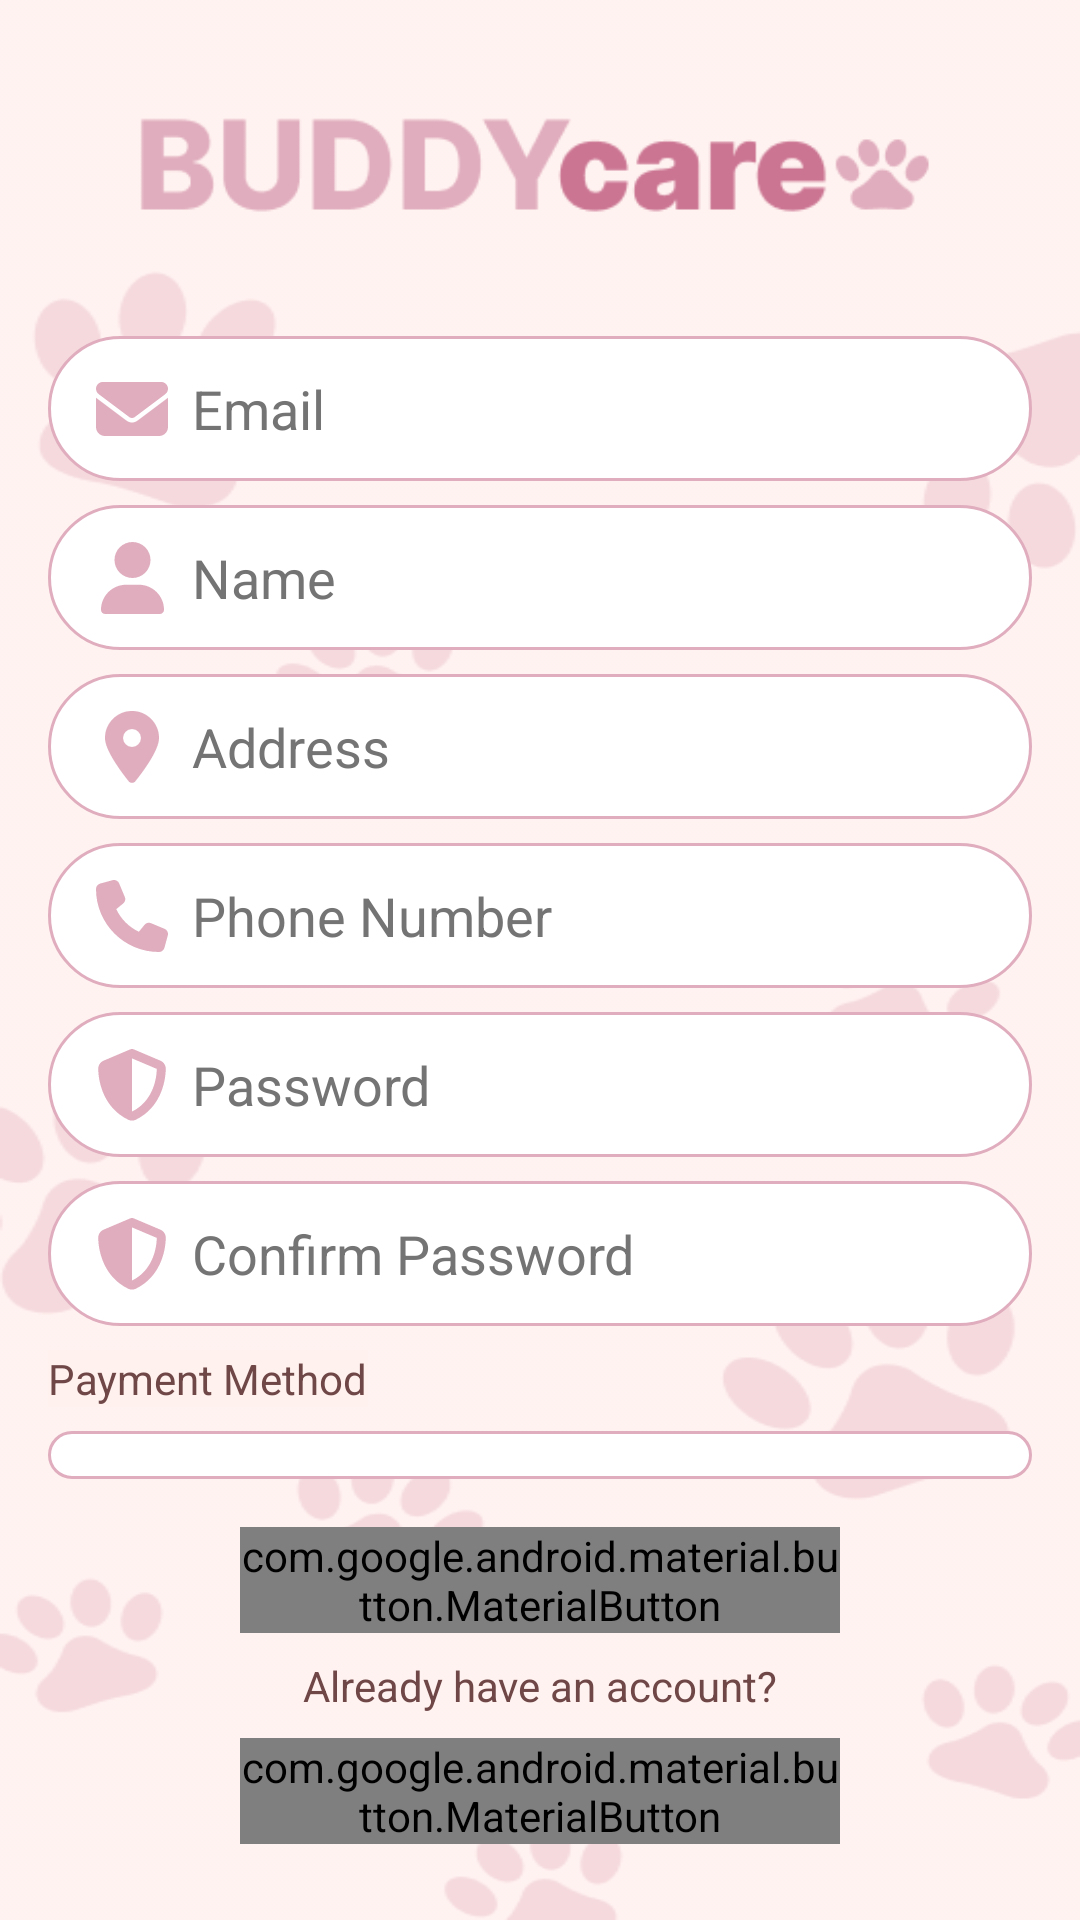

Icons on this 1080x1920 Android screen, each with the point to tap as point (x, y):
envelope: point (132, 409)
location: point (132, 747)
shield: point (132, 1085), point (132, 1254)
user: point (132, 578)
